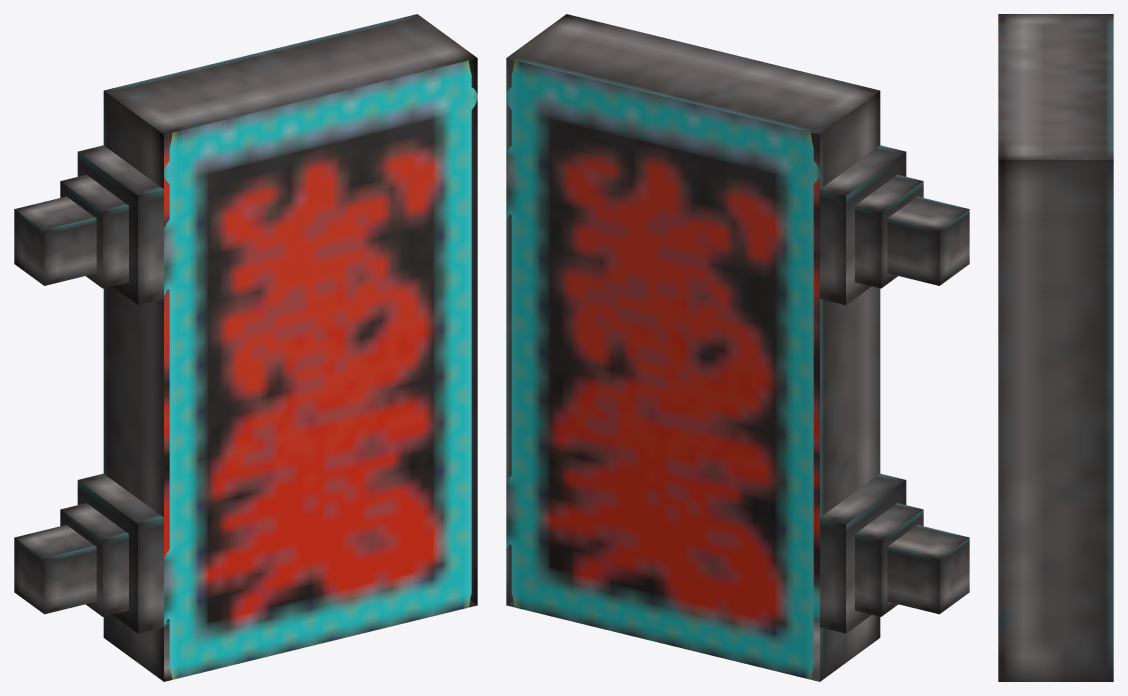
Rendered from Poly_SF_Outside_B_Board_Neo_Sign_10.obj.
The picture shows the model from 3 angles, left to right: view 1: azimuth 30°, elevation 25°; view 2: azimuth 150°, elevation 25°; view 3: azimuth 270°, elevation 25°; orthographic projection. The views are drawn at different scales.
Visible parts, largest first — view 1: Cube, Cube.001; view 2: Cube, Cube.001; view 3: Cube.
Boxes of the visible parts, x1,y1,x2,y2 form: Cube: (103,14,477,681); Cube.001: (14,145,163,633); Cube: (506,14,880,681); Cube.001: (820,145,969,633); Cube: (998,14,1113,681).
Size of the model in its own units: 0.8 by 1 by 0.2.
Materials: 1 (1 with a texture image).
